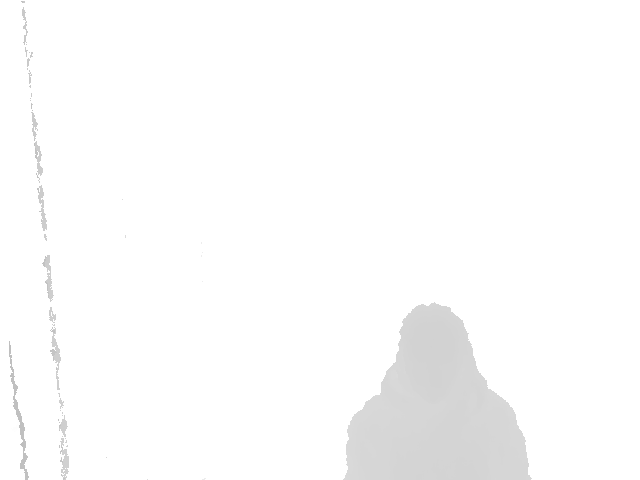head: (395, 302, 478, 401)
person: (343, 303, 530, 480)
